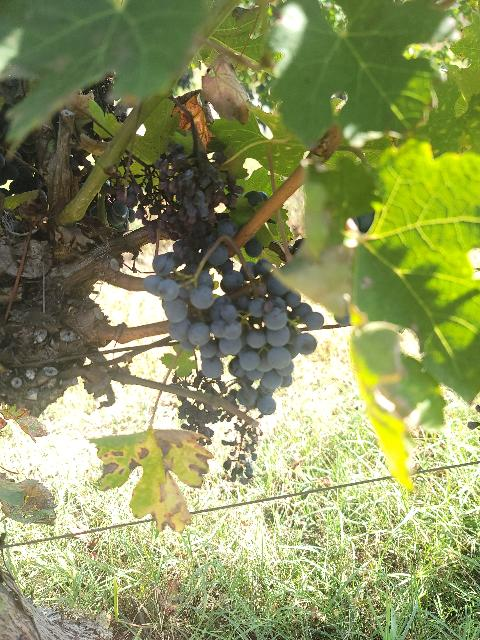grapes: (210, 274, 324, 415), (144, 241, 222, 379)
